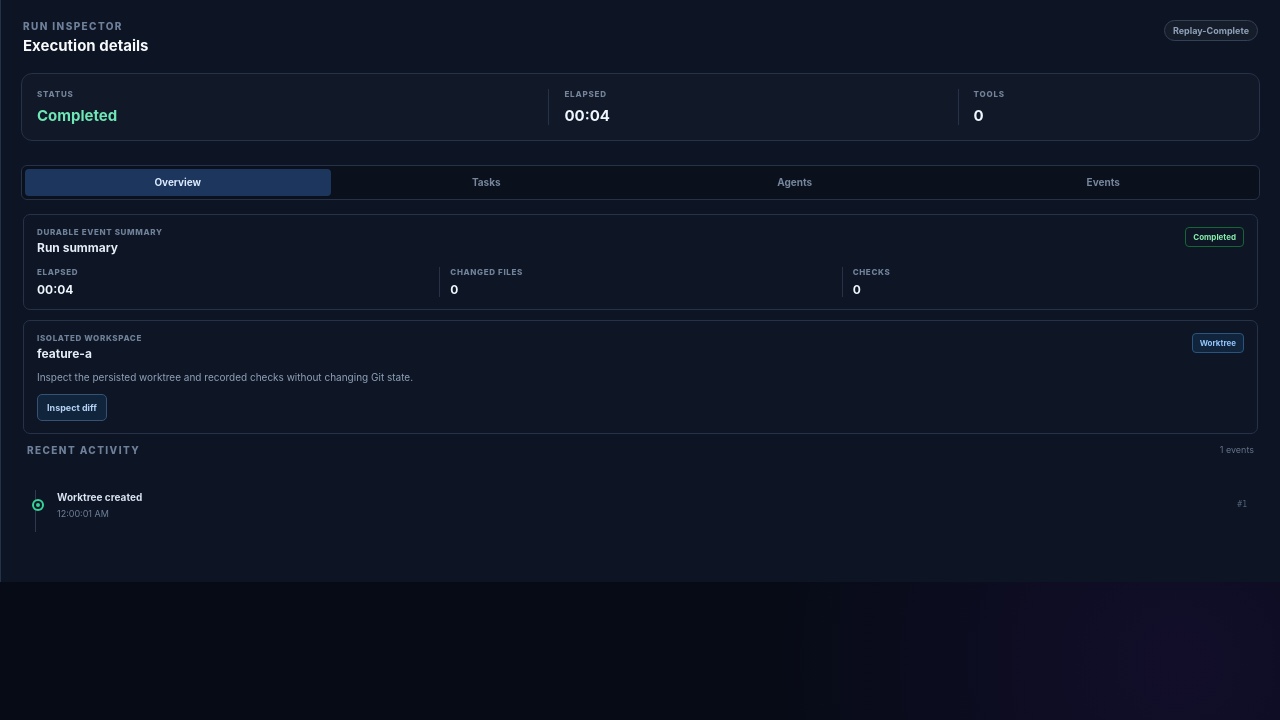
Scenario: RunInspector › requests read-only diff and checks only after opening a worktree drawer
This screenshot has width=1280, height=720.
Click the button "Inspect diff" at (72, 407), box [37,394,107,421]
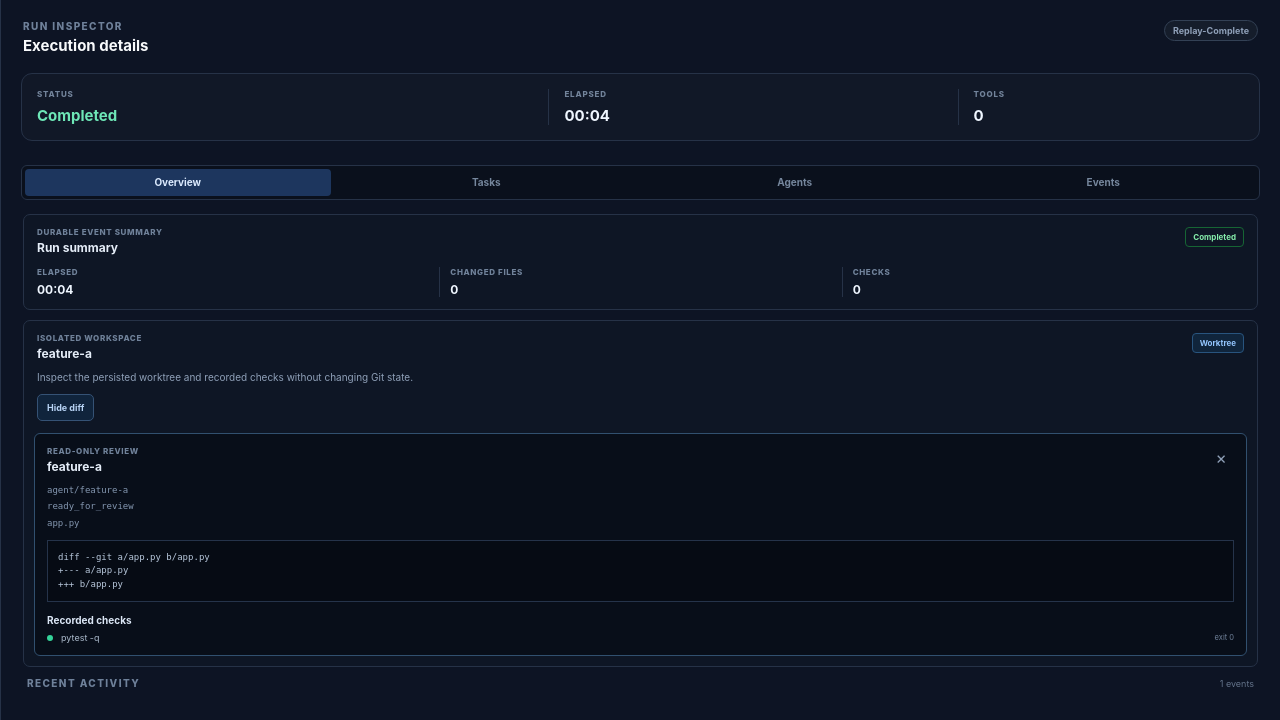
Expected: the text "agent/feature-a" is shown, [47,485,128,495]
Expected: the text "pytest -q" is shown, [61,632,100,643]
